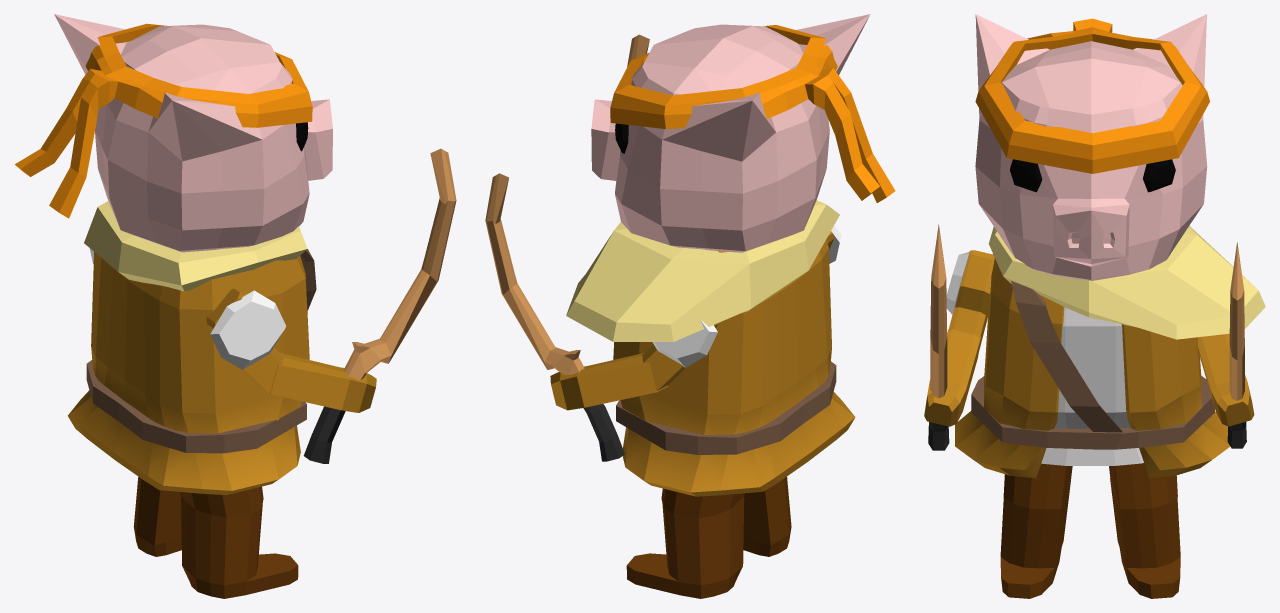
Rendered from mercenary.glb.
3 renders of one model, left to right at view 1: azimuth 30°, elevation 25°; view 2: azimuth 150°, elevation 25°; view 3: azimuth 270°, elevation 25°, orthographic. The views are drawn at different scales.
Parts seen in each view (by area): view 1: mercenary; view 2: mercenary; view 3: mercenary.
Part boxes in pixels (box(x1,y1,x2,y2)): mercenary: box(15, 14, 456, 598); mercenary: box(485, 14, 895, 598); mercenary: box(924, 14, 1265, 598).
Bounding box in the file's own units: 3.41 × 4.95 × 2.98.
Materials: 10 (2 with a texture image).
